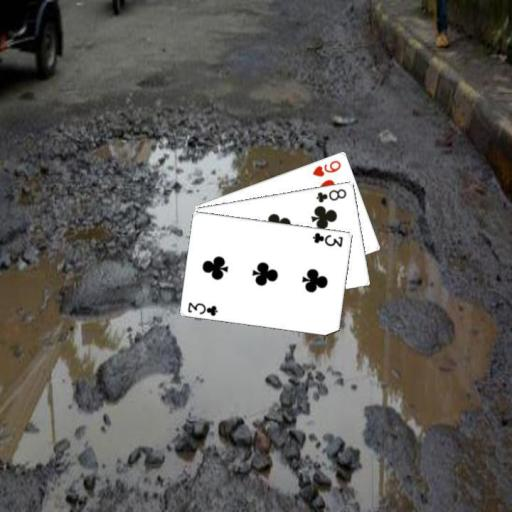3C: (310, 229, 345, 248), (185, 300, 220, 318)
8C: (313, 185, 348, 204)
9H: (309, 157, 343, 178)
